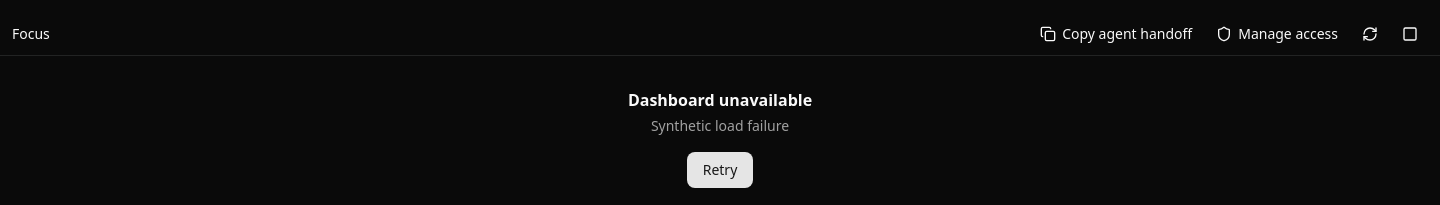
Test: dashboard trusted UI › shows a recoverable host error, retries, and copies the trusted agent handoff
Click the button "Retry": click(720, 170) [687,152,753,188]
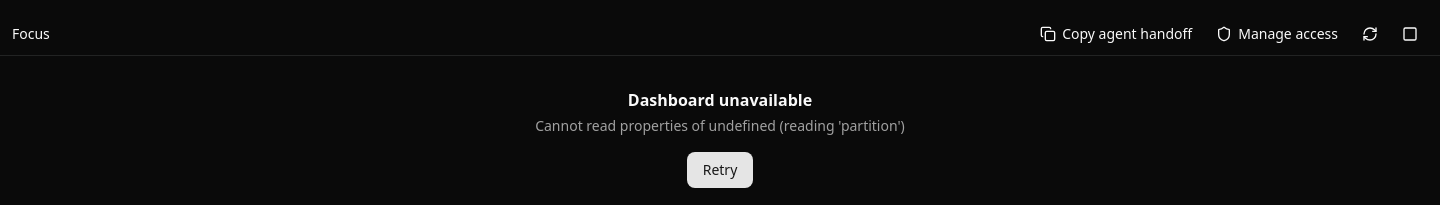
Click the button "Copy agent handoff": click(1116, 34) [1030,18,1202,50]
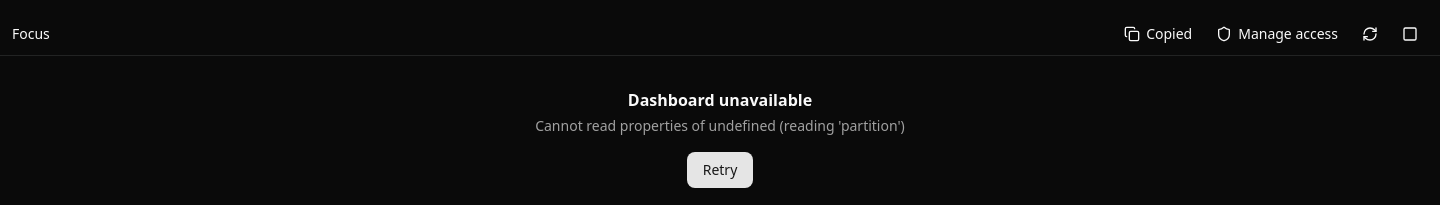
Result: the text "Copied" is shown at [1114,18,1202,50]
